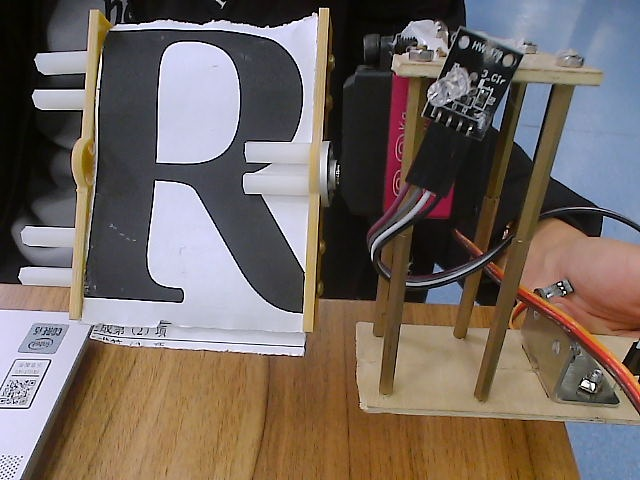R: (13, 1, 374, 395)
